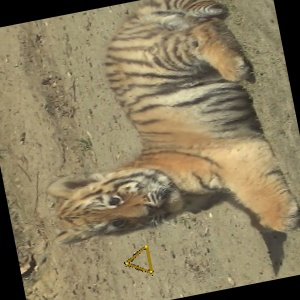triangle: (123, 242, 156, 279)
